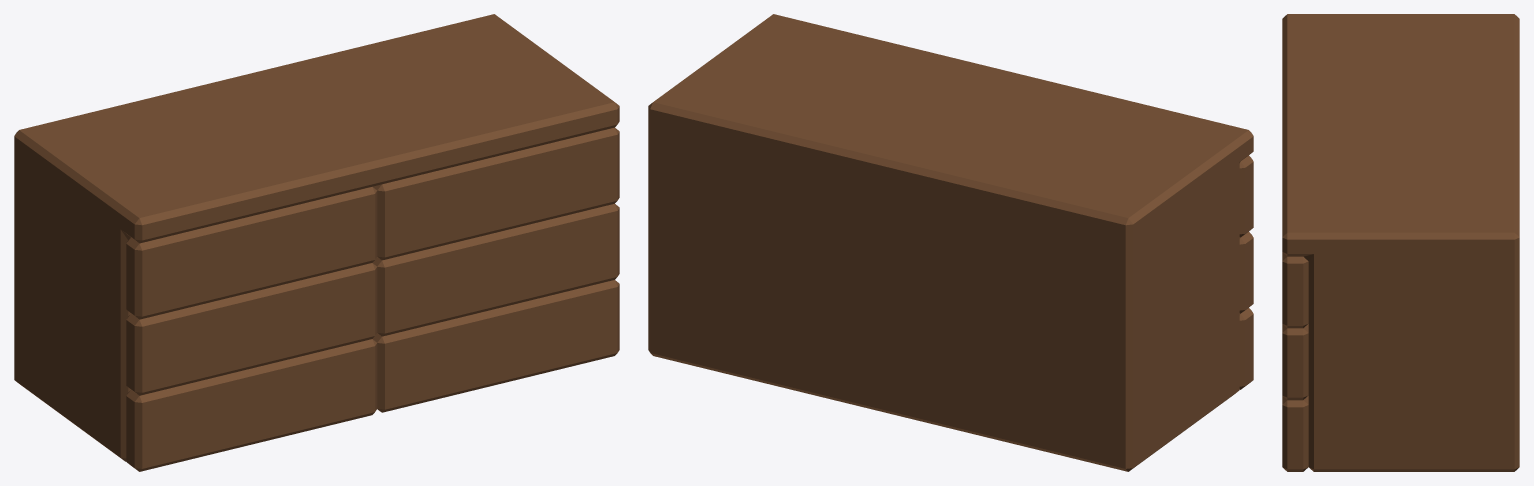
Rendered from tmp_dresser.fbx.
The picture shows the model from 3 angles, left to right: view 1: azimuth 30°, elevation 25°; view 2: azimuth 150°, elevation 25°; view 3: azimuth 270°, elevation 25°; orthographic projection. The views are drawn at different scales.
Parts seen in each view (by area): view 1: Dresser; view 2: Dresser; view 3: Dresser.
Boxes of the visible parts, x1,y1,x2,y2 form: Dresser: [14, 14, 619, 471]; Dresser: [648, 14, 1253, 471]; Dresser: [1282, 14, 1519, 471].
Size of the model in its own units: 200 by 100 by 90.
